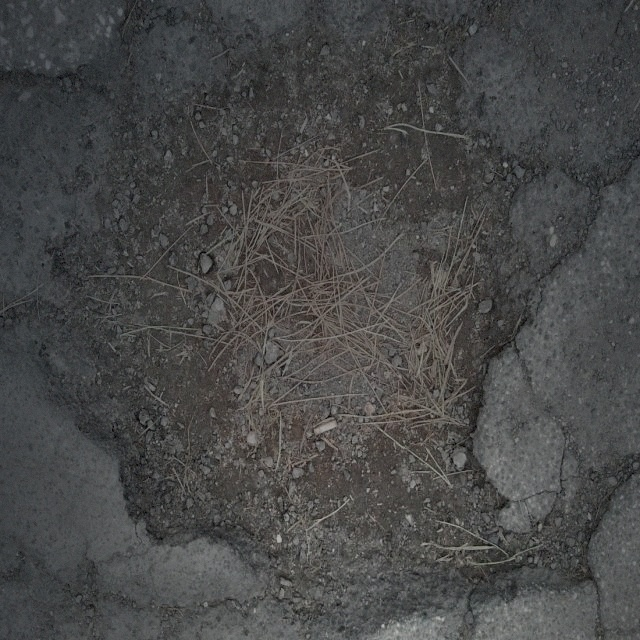pothole: (52, 39, 536, 616)
